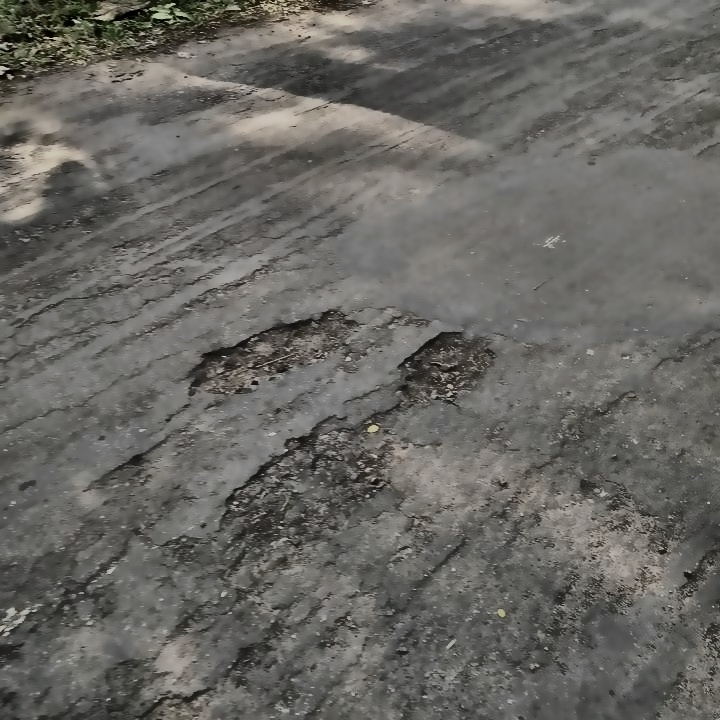pothole: (217, 416, 400, 551), (184, 305, 364, 397), (395, 328, 500, 410)
